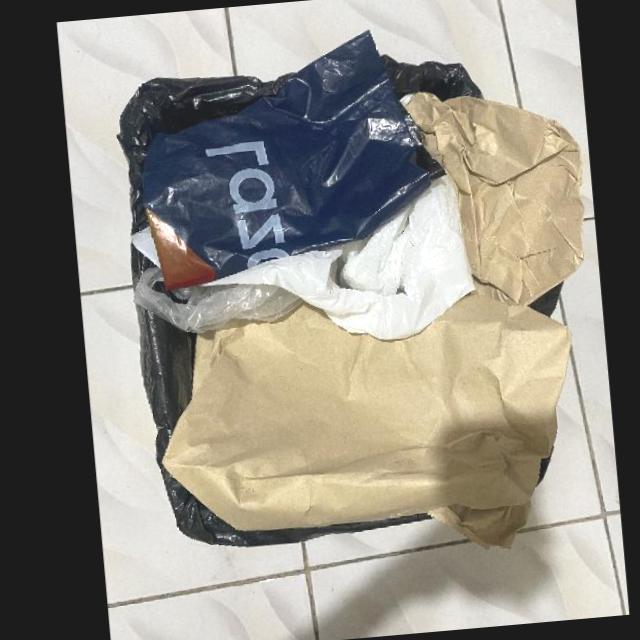giay: (160, 287, 572, 548), (401, 95, 583, 308)
tui_ni_long: (141, 27, 447, 294), (134, 265, 302, 334)
